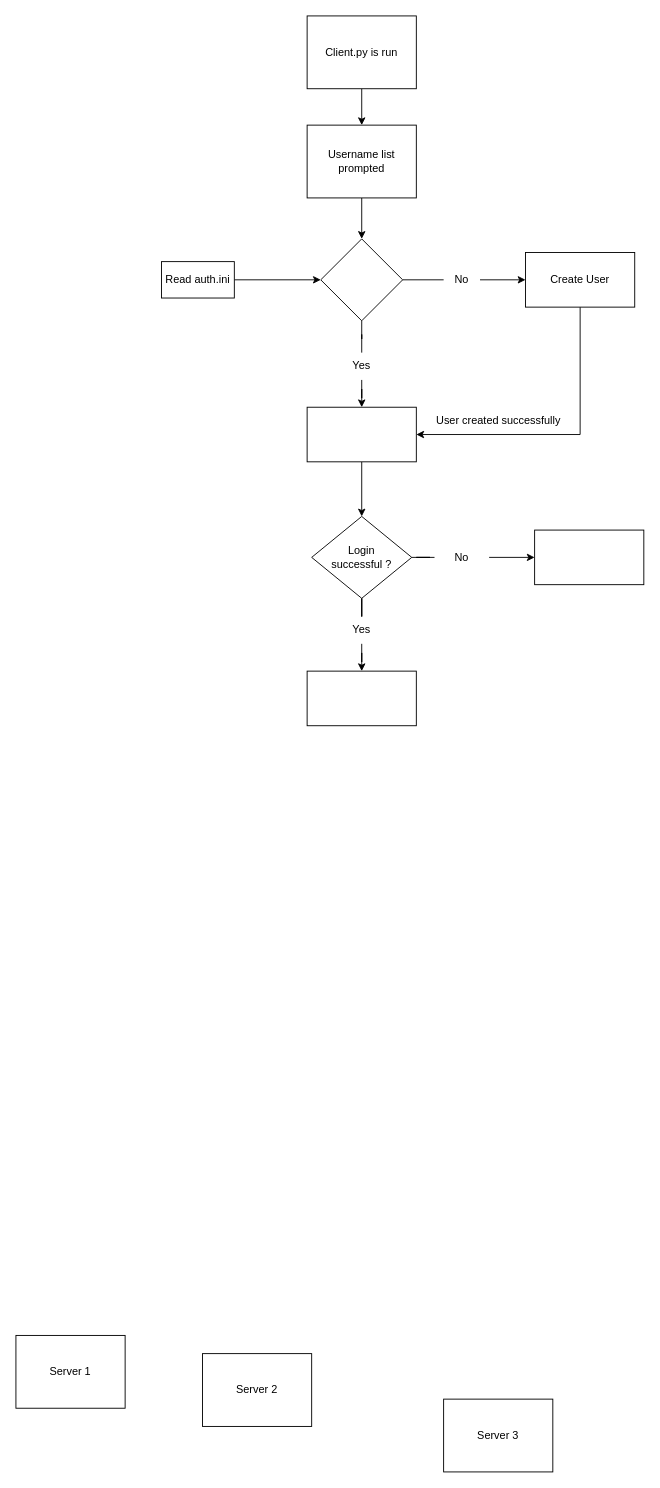
This 660x1488 diagram has some shape labels left out. Each missing label, with the centre of its shape:
existing user?: pixel 361 279
Get user input for File operation.: pixel 361 698
Login: pixel 361 434
Program exits. Client.py has to be run again.: pixel 589 557
